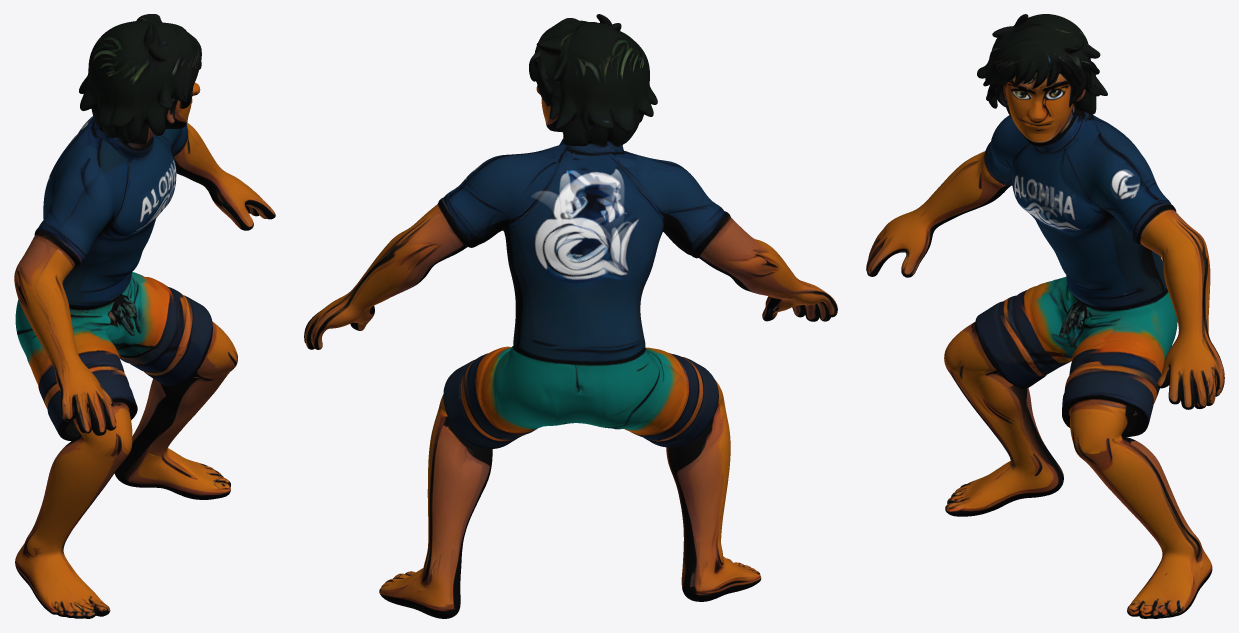
Rendered from surfer_crouch_original.glb.
The picture shows the model from 3 angles, left to right: view 1: azimuth 30°, elevation 25°; view 2: azimuth 150°, elevation 25°; view 3: azimuth 270°, elevation 25°; orthographic projection. The views are drawn at different scales.
Parts seen in each view (by area): view 1: tripo_node_db519647-713b-4b53-9114-c3613d3c6ac4; view 2: tripo_node_db519647-713b-4b53-9114-c3613d3c6ac4; view 3: tripo_node_db519647-713b-4b53-9114-c3613d3c6ac4.
Part boxes in pixels (box(x1,y1,x2,y2)): tripo_node_db519647-713b-4b53-9114-c3613d3c6ac4: box(14, 14, 275, 618); tripo_node_db519647-713b-4b53-9114-c3613d3c6ac4: box(304, 14, 837, 618); tripo_node_db519647-713b-4b53-9114-c3613d3c6ac4: box(866, 14, 1224, 618).
Size of the model in its own units: 0.6892 by 1 by 0.5979.
Materials: 1 (1 with a texture image).
